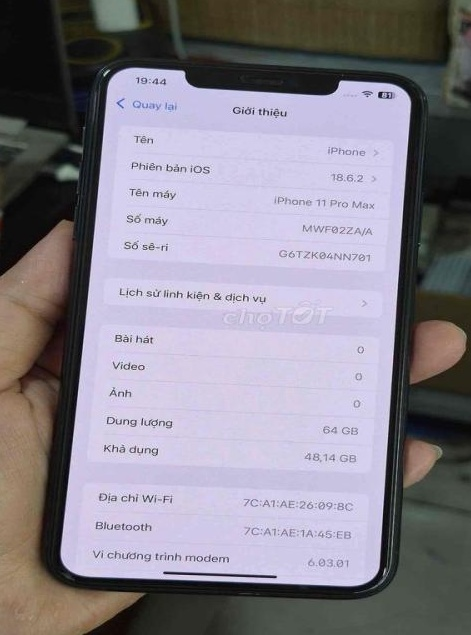physical_damage: (48, 558, 87, 591)
scratch: (335, 68, 357, 90)
